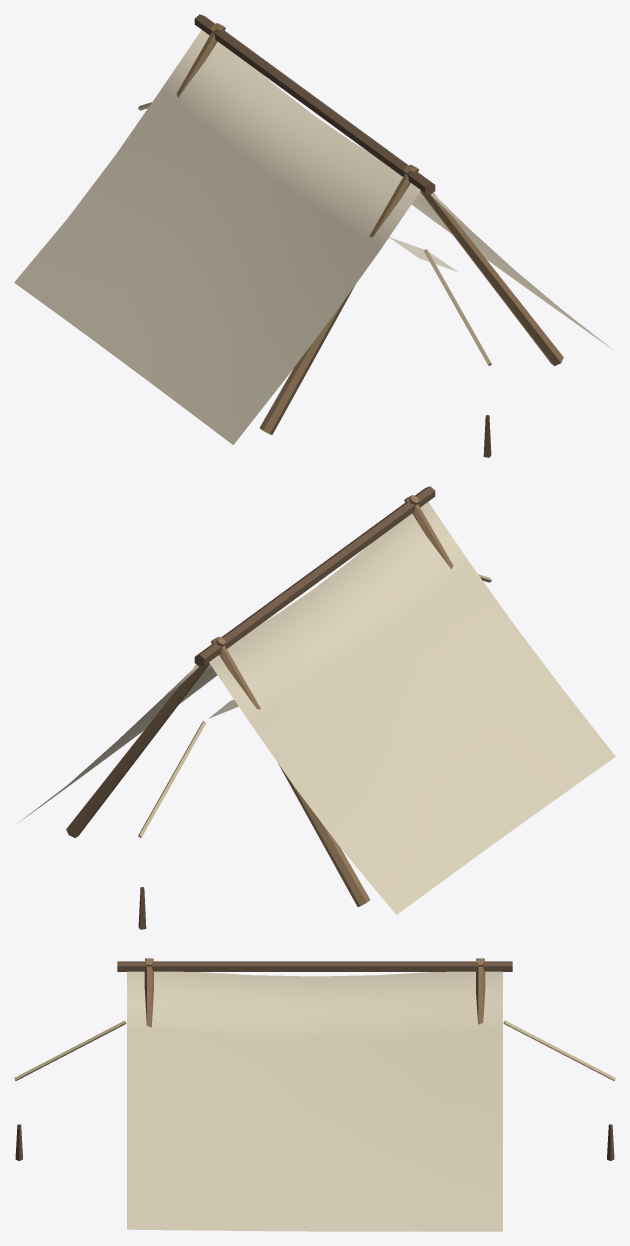
File: tent_a.glb
3 views of the same model, one above another, from view 1: azimuth 30°, elevation 25°; view 2: azimuth 150°, elevation 25°; view 3: azimuth 270°, elevation 25° (orthographic). The views are drawn at different scales.
Parts seen in each view (by area): view 1: tent_a; view 2: tent_a; view 3: tent_a.
Part boxes in pixels (left/top/right/bottom): tent_a: left=14, top=14, right=612, bottom=457; tent_a: left=17, top=486, right=615, bottom=929; tent_a: left=14, top=958, right=615, bottom=1231.
Bounding box in the file's own units: 2.97 × 1.74 × 4.72.
